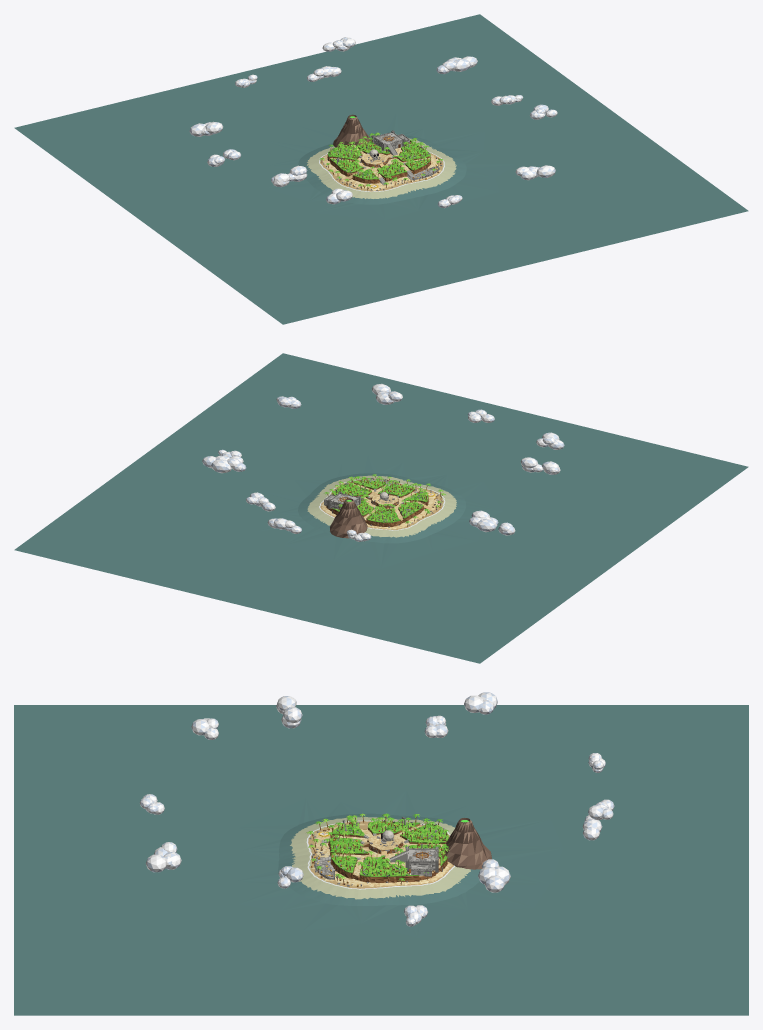
File: PirateIsland.fbx
3 renders of one model, top to bottom at view 1: azimuth 30°, elevation 25°; view 2: azimuth 150°, elevation 25°; view 3: azimuth 270°, elevation 25°, orthographic. The views are drawn at different scales.
Visible parts, largest first — view 1: Decor_Sea, Decor_Sky_Clouds_2, Decor_Sky_Clouds_3, Decor_Sky_Clouds_1, Decor_Volcano; view 2: Decor_Sea, Decor_Sky_Clouds_2, Decor_Sky_Clouds_3, Decor_Sky_Clouds_1, Decor_Volcano; view 3: Decor_Sea, Decor_Sky_Clouds_2, Decor_Sky_Clouds_3, Decor_Volcano, Decor_Sky_Clouds_1, Sol_BlockBlock4, Sol_Beach_52, Sol_Beach_53, Sol_Beach_51, Sol_Beach_54, Sol_BlockBlock6, Decor_Fortress.
Part boxes in pixels (left/top/right/bottom): Decor_Sea: left=14, top=14, right=748, bottom=324; Decor_Sky_Clouds_2: left=235, top=56, right=555, bottom=187; Decor_Sky_Clouds_3: left=189, top=37, right=557, bottom=204; Decor_Sky_Clouds_1: left=207, top=66, right=523, bottom=208; Decor_Volcano: left=333, top=114, right=369, bottom=147; Decor_Sea: left=14, top=353, right=748, bottom=663; Decor_Sky_Clouds_2: left=202, top=383, right=560, bottom=541; Decor_Sky_Clouds_3: left=246, top=396, right=564, bottom=532; Decor_Sky_Clouds_1: left=218, top=409, right=515, bottom=535; Decor_Volcano: left=330, top=498, right=367, bottom=538; Decor_Sea: left=14, top=705, right=748, bottom=1015; Decor_Sky_Clouds_2: left=145, top=696, right=605, bottom=892; Decor_Sky_Clouds_3: left=191, top=692, right=614, bottom=888; Decor_Volcano: left=443, top=818, right=491, bottom=869; Decor_Sky_Clouds_1: left=139, top=715, right=602, bottom=926; Sol_BlockBlock4: left=359, top=855, right=419, bottom=882; Sol_Beach_52: left=344, top=883, right=382, bottom=905; Sol_Beach_53: left=380, top=883, right=418, bottom=905; Sol_Beach_51: left=308, top=884, right=346, bottom=905; Sol_Beach_54: left=417, top=884, right=454, bottom=904; Sol_BlockBlock6: left=400, top=823, right=448, bottom=843; Decor_Fortress: left=389, top=846, right=438, bottom=876.
Size of the model in its own units: 164000 by 20762 by 164000.
1 material, 1 textured.
